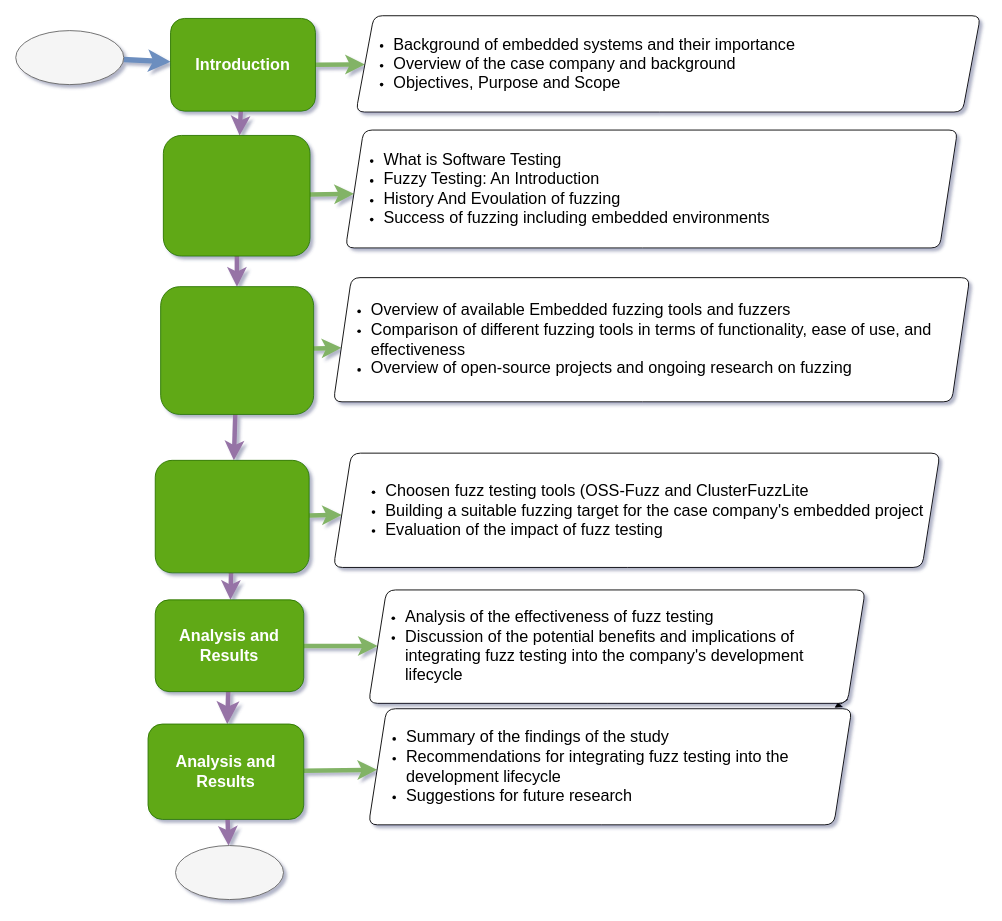
Image size: 1002x921. Some labels were removed from this diagram. Each missing label, with the box of its shape:
Current State Analysis of the Case Company: (160, 286, 314, 414)
Implementation and Proof of Concept: (154, 459, 309, 573)
Literature Review: Fuzzing as a Testing Technique: (162, 135, 310, 256)
Start: (15, 30, 124, 85)
Stop: (175, 845, 284, 900)
